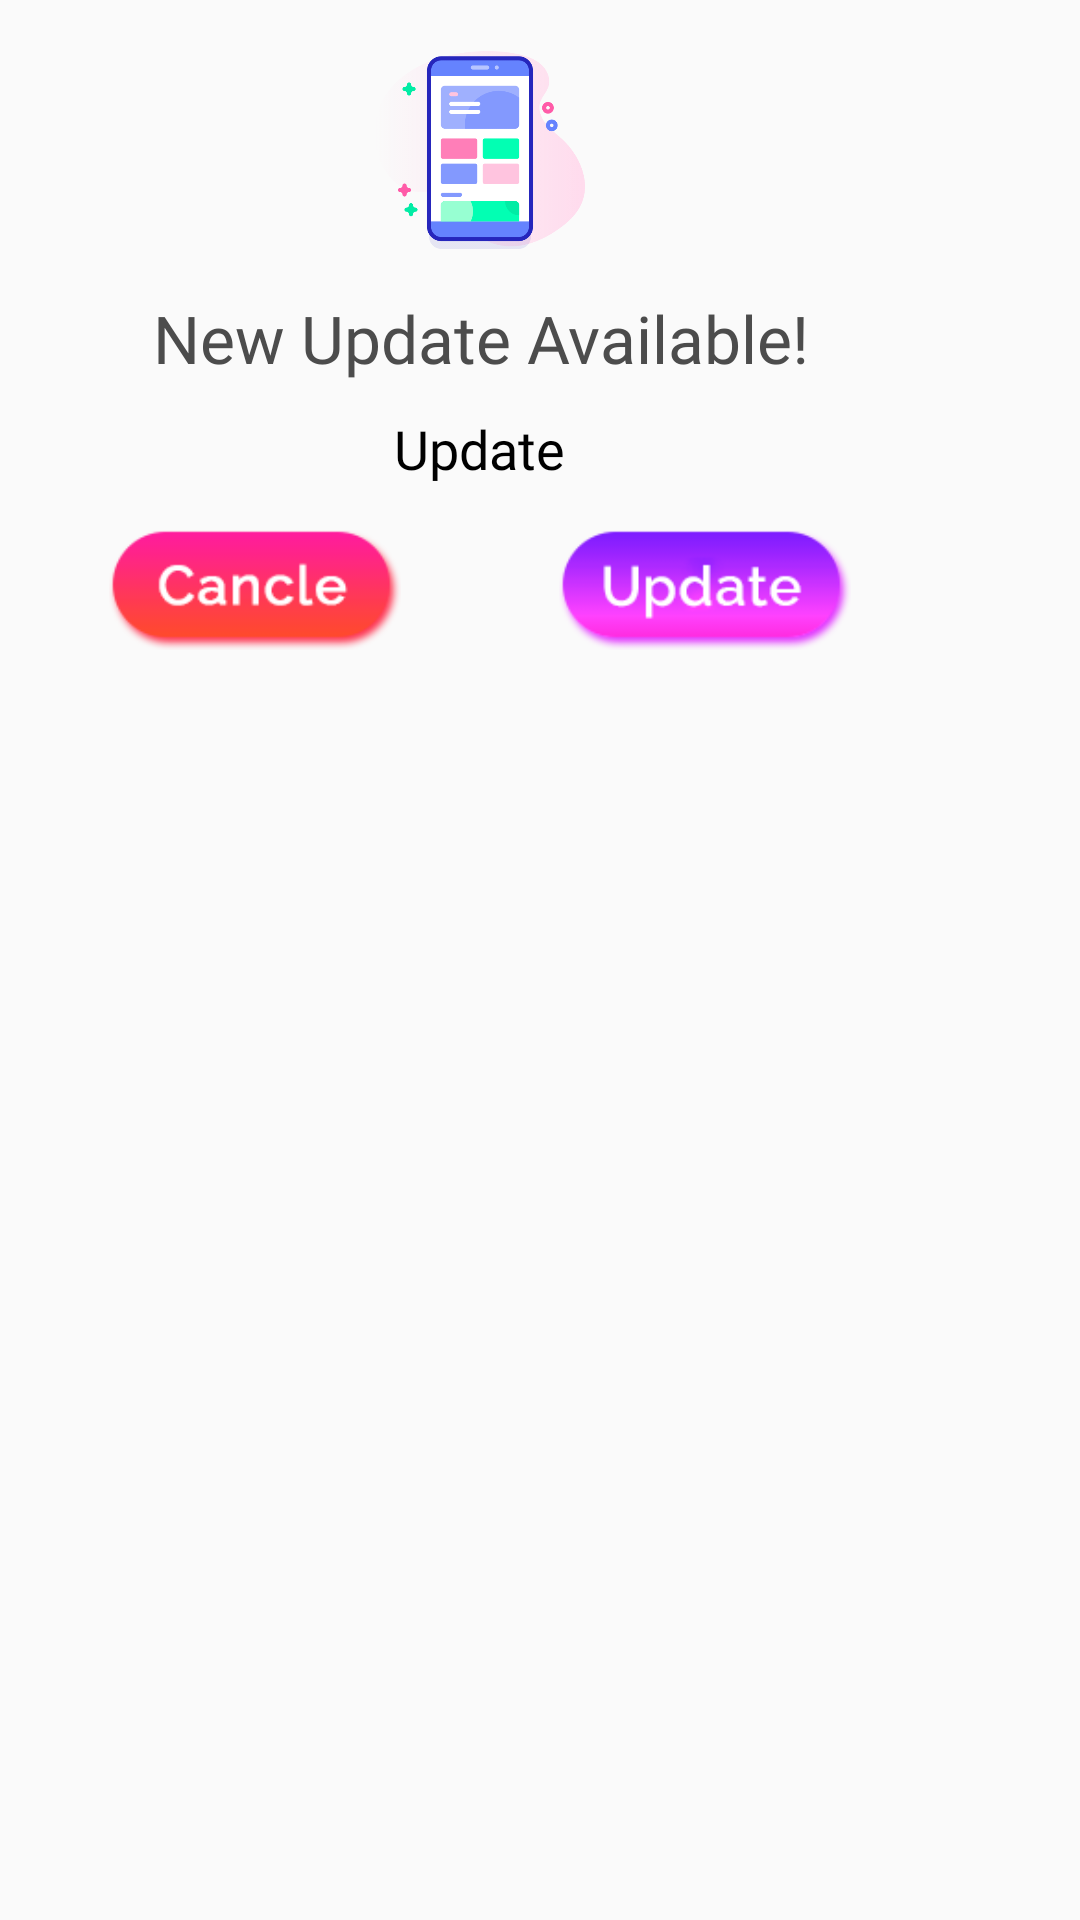

Named icons in this screenshot (1080px x 1920px) and their bounding boxes, detection(x1, y1, x2, y2):
updateicon: detection(398, 56, 585, 246)
